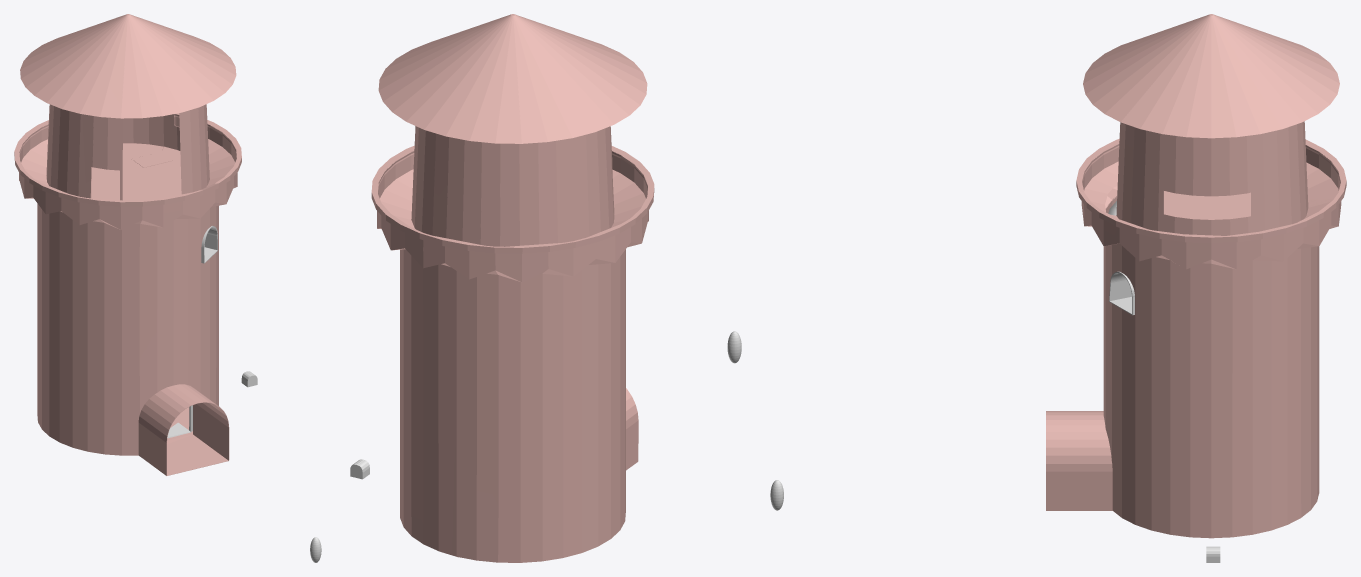
File: Schloss.fbx
3 renders of one model, left to right at view 1: azimuth 30°, elevation 25°; view 2: azimuth 150°, elevation 25°; view 3: azimuth 270°, elevation 25°, orthographic. The views are drawn at different scales.
Visible parts, largest first — view 1: Plane.002, Plane.003, Cube.008; view 2: Plane.002; view 3: Plane.002, Plane.003, Cube.008.
Boxes of the visible parts, <box> form: Plane.002: <box>14,14,241,475</box>; Plane.003: <box>91,143,181,201</box>; Cube.008: <box>201,226,217,263</box>; Plane.002: <box>371,14,654,562</box>; Plane.002: <box>1046,14,1346,538</box>; Plane.003: <box>1164,191,1250,219</box>; Cube.008: <box>1109,271,1134,315</box>.
Bounding box in the file's own units: 1586 × 2784 × 2950.
